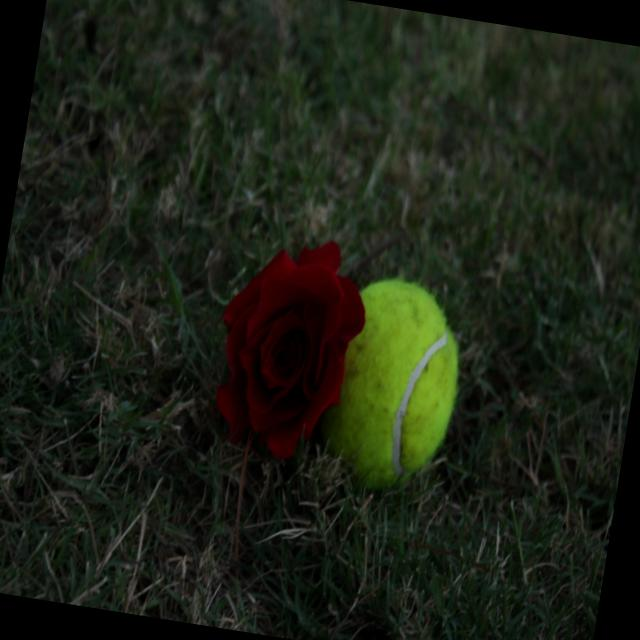Tennis Ball: (308, 272, 479, 502)
